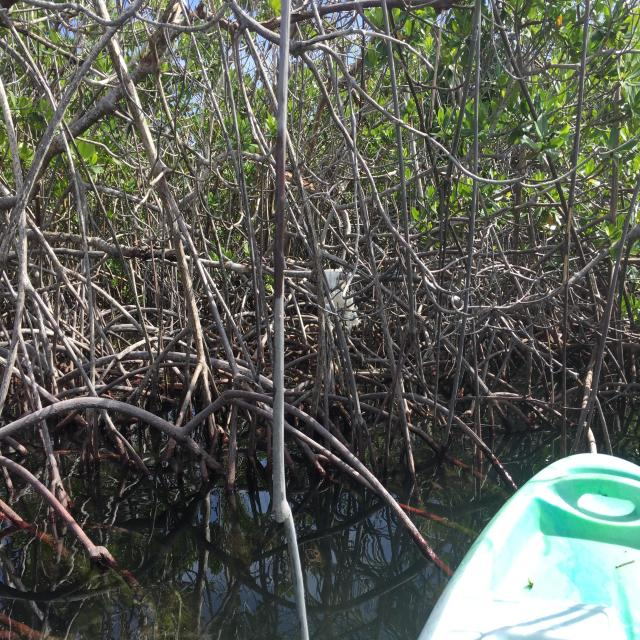litter: (321, 269, 364, 323)
